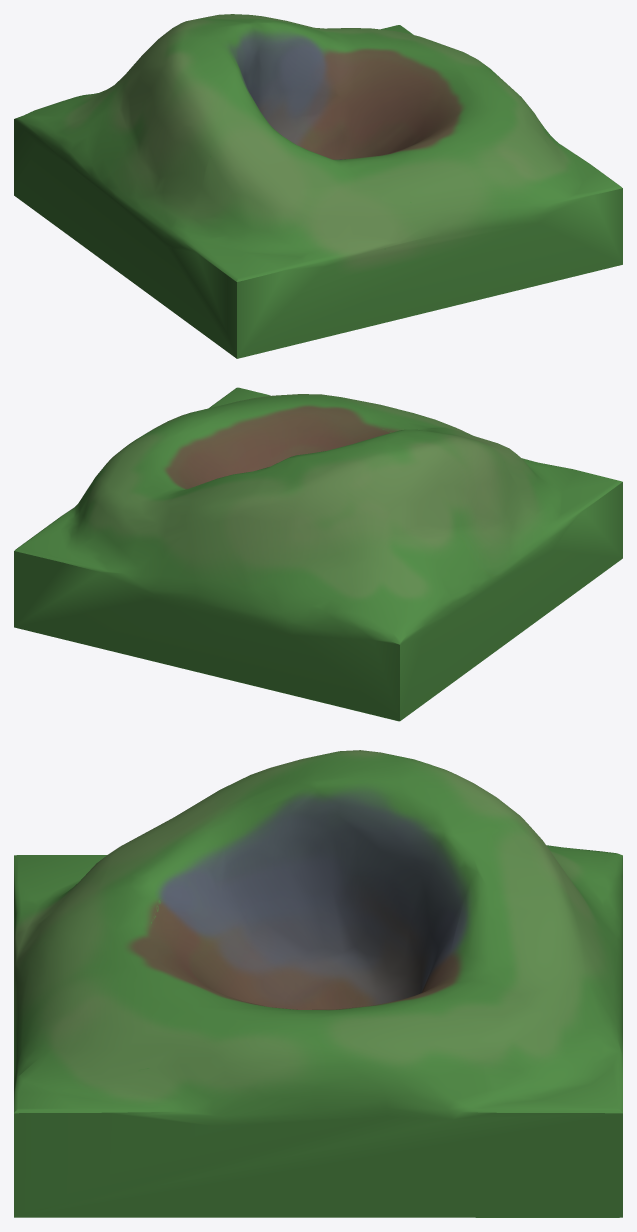
Rendered from Escena1.fbx.
3 views of the same model, one above another, from view 1: azimuth 30°, elevation 25°; view 2: azimuth 150°, elevation 25°; view 3: azimuth 270°, elevation 25° (orthographic). The views are drawn at different scales.
Parts seen in each view (by area): view 1: Cube; view 2: Cube; view 3: Cube.
Boxes of the visible parts, <box> form: Cube: <box>14,14,622,358</box>; Cube: <box>14,387,622,721</box>; Cube: <box>14,750,622,1217</box>.
Size of the model in its own units: 200 by 94.97 by 200.
Materials: 1 (1 with a texture image).
